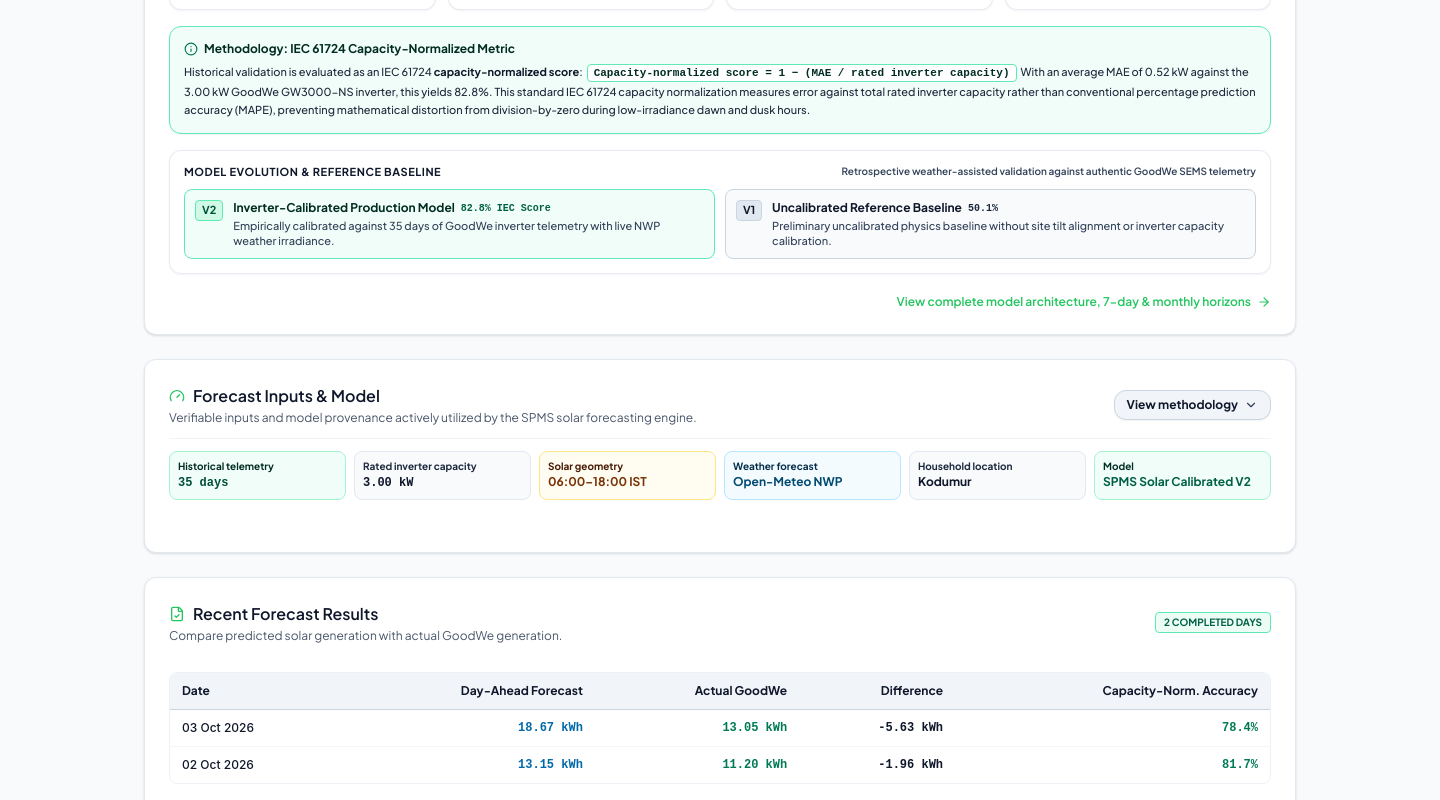
Test case: EnergyBalancePage (Final Energy + Solar Forecast Validation System) › Section 5: renders Forecast Inputs & Model in collapsed state by default and toggles on demand
The image size is (1440, 800).
(page scrolled)
Expected: the element with test id "forecast-inputs-card" is shown, [144, 359, 1296, 553]
Expected: the text "Forecast Inputs & Model" is shown, [193, 384, 380, 408]
Note: Click View methodology to expand
Click the button "View methodology".
click(1192, 405)  # box [1114, 390, 1271, 420]
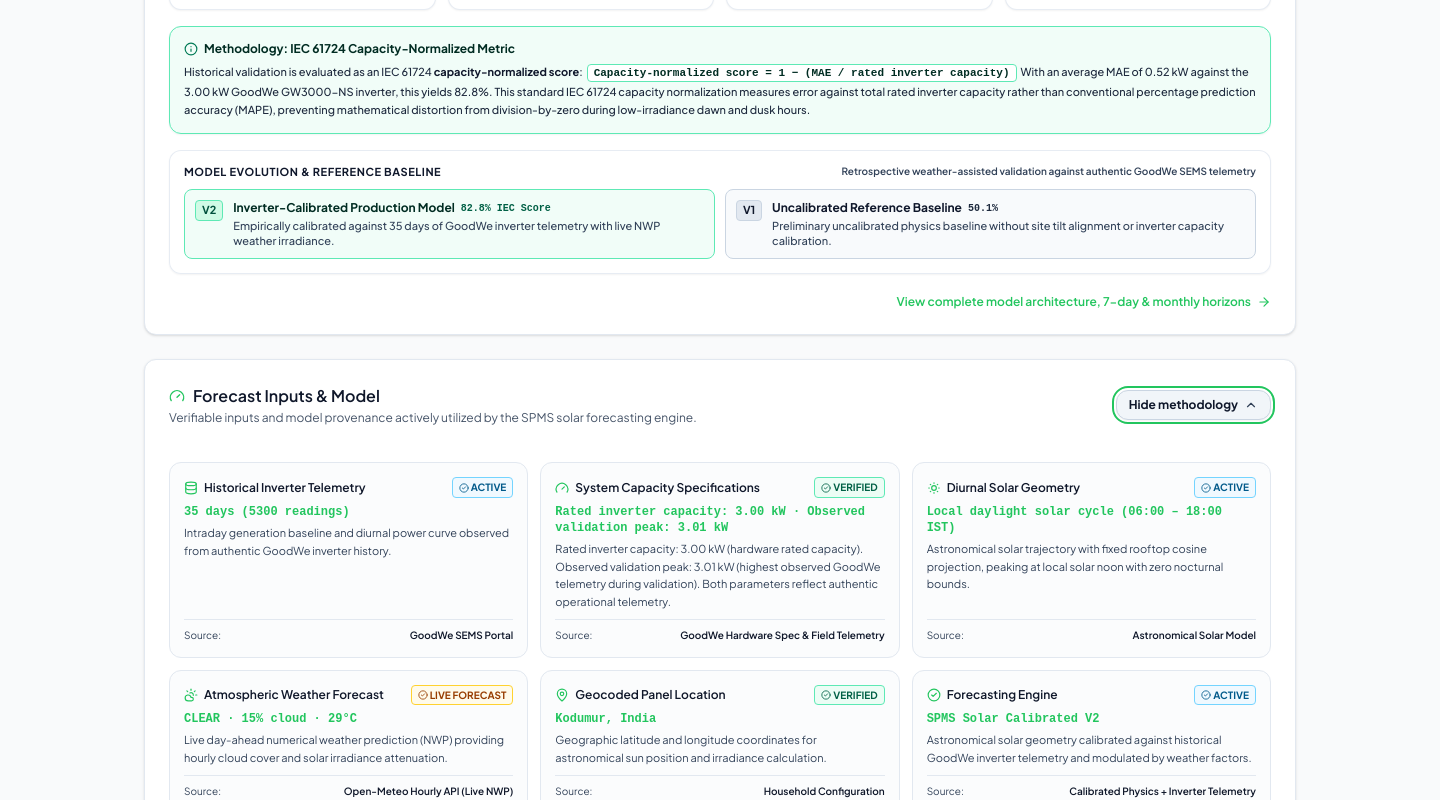
Expected: the text "Historical Inverter Telemetry" is shown, [184, 480, 366, 496]
Expected: the text "System Capacity Specifications" is shown, [555, 480, 760, 496]
Expected: the text "Diurnal Solar Geometry" is shown, [927, 480, 1080, 496]
